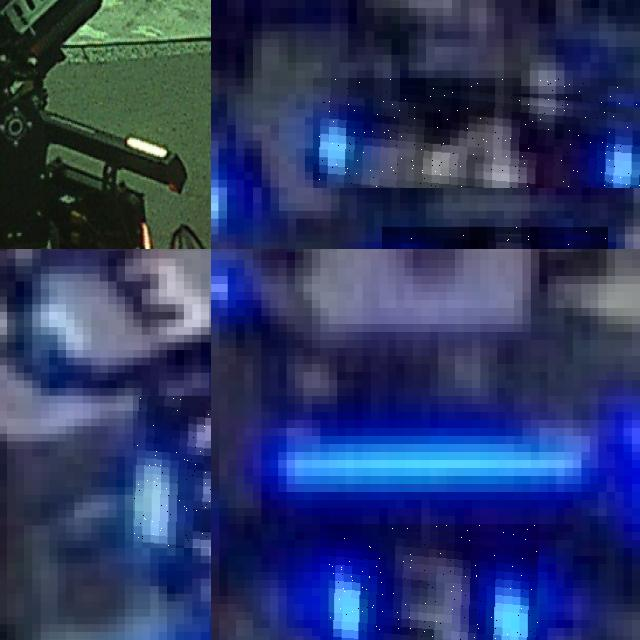B3: (328, 524, 539, 640), (133, 395, 211, 548)
B4: (313, 78, 640, 187)
